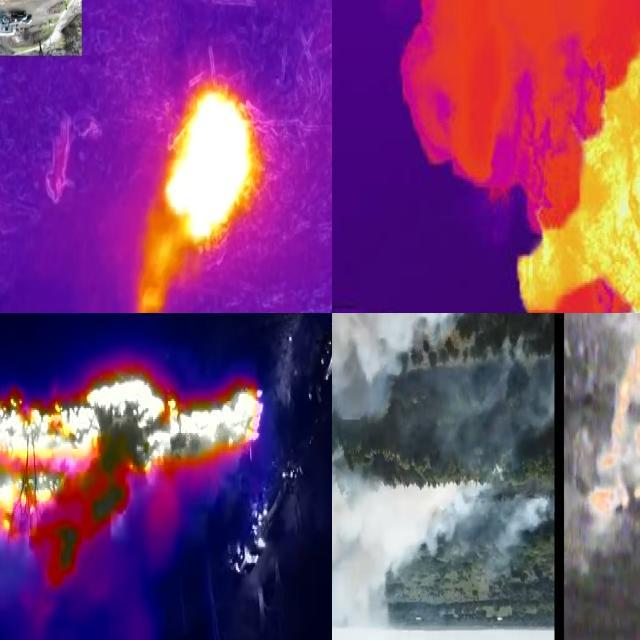fire: (1, 369, 261, 579), (517, 45, 640, 315), (161, 87, 257, 263), (590, 314, 640, 522)
